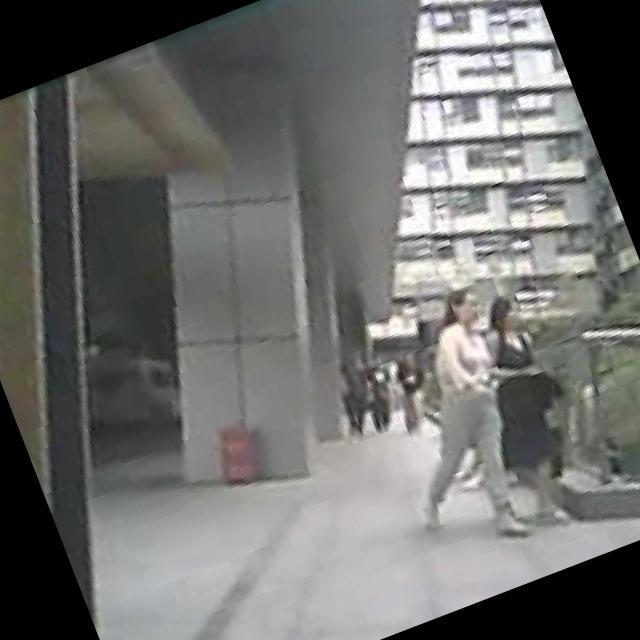person: (350, 286, 566, 566), (446, 286, 608, 535), (381, 343, 444, 436), (330, 347, 382, 437), (360, 352, 410, 433)
